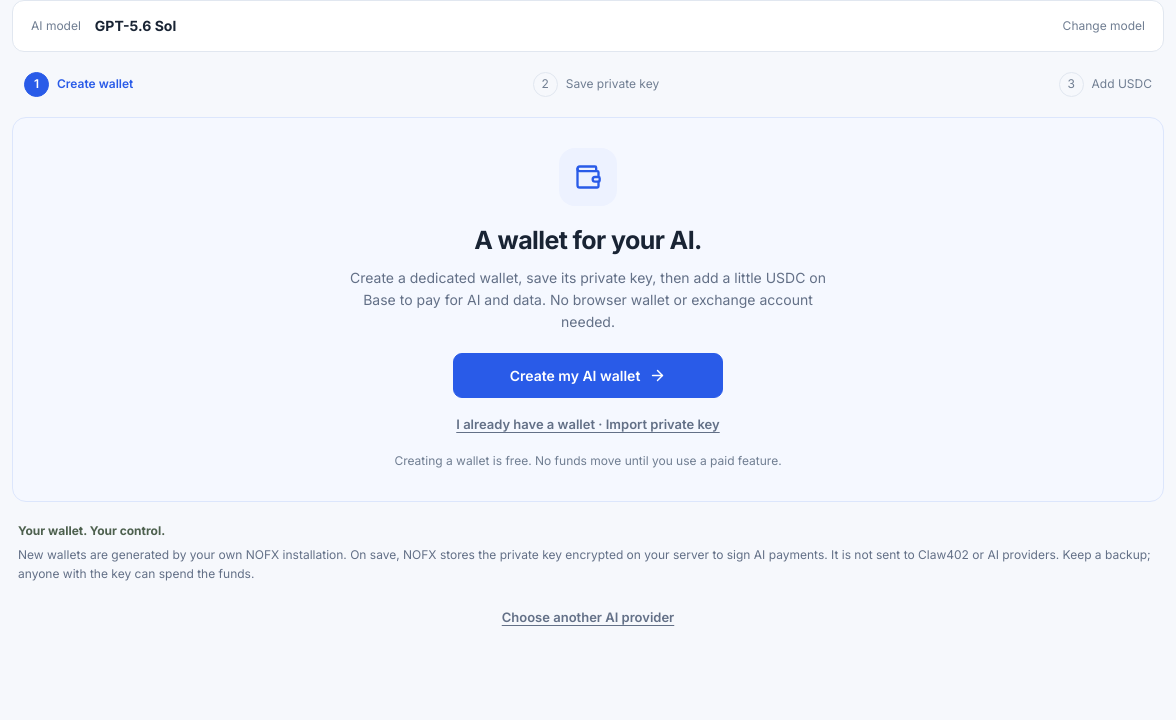
Test case: does not generate duplicate wallets while a request is pending
This screenshot has width=1176, height=720.
Click the button "Create my AI wallet". click: click(588, 375)
box: [453, 352, 723, 398]
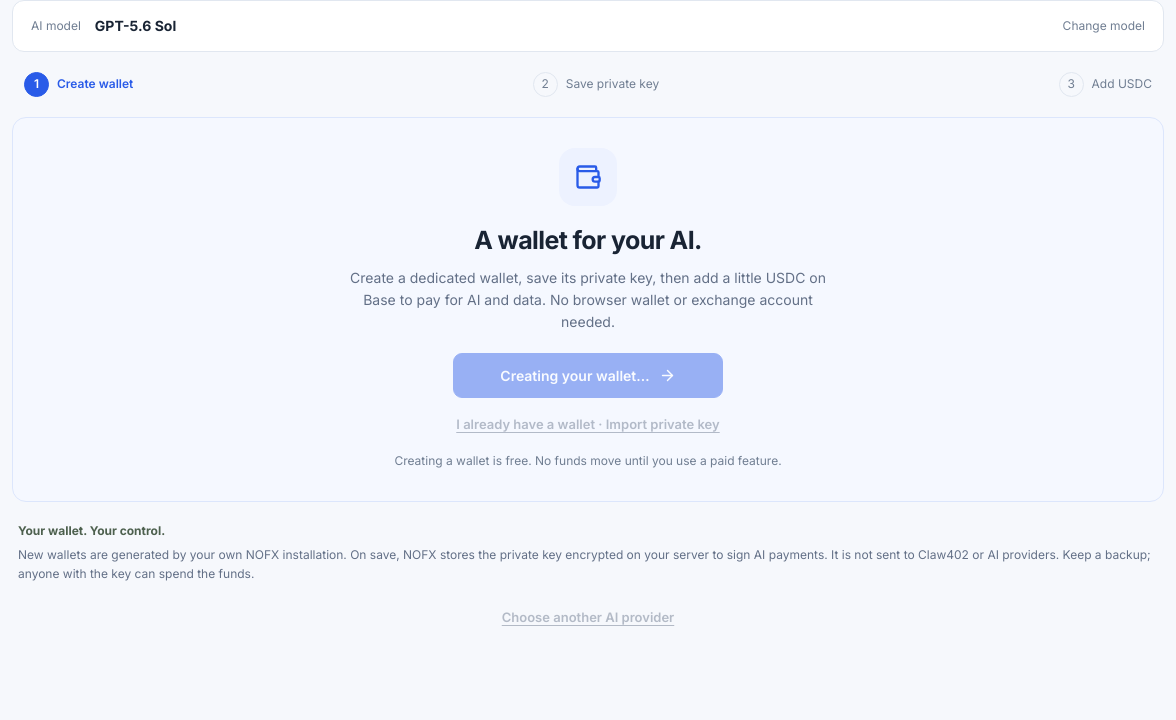
Click the button named "Create my AI wallet". click: click(588, 375)
box: [453, 352, 723, 398]
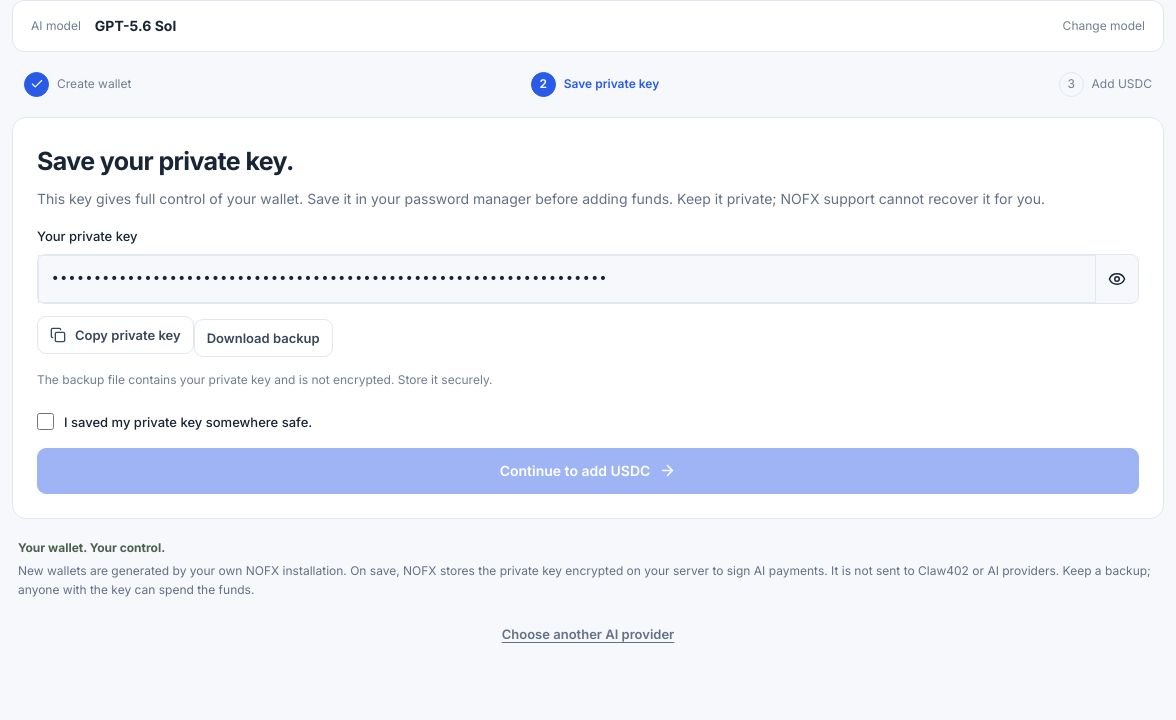
Now the heading "Save your private key." is shown, box [37, 146, 294, 176]
